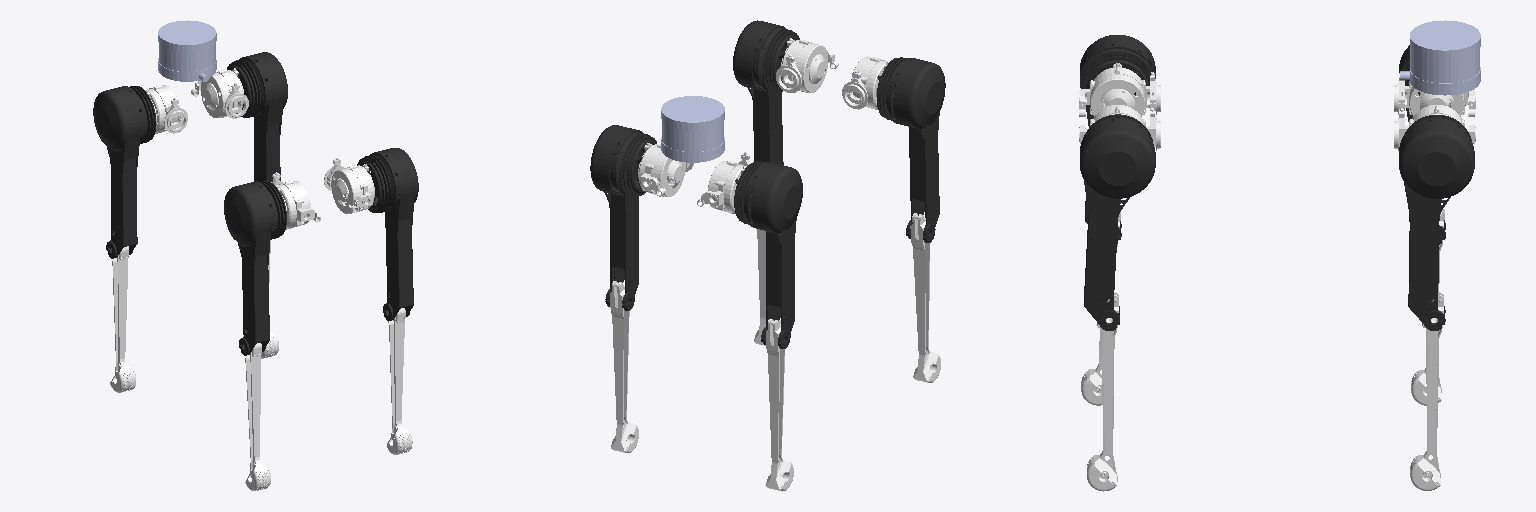
URDF robot description (mini):
<?xml version="1.0" encoding="utf-8"?>
<!-- This URDF was automatically created by SolidWorks to URDF Exporter! Originally created by [author] ([email redacted]) 
     Commit Version: 1.5.1-0-g916b5db  Build Version: 1.5.7152.31018
     For more information, please see http://wiki.ros.org/sw_urdf_exporter -->
<robot
  name="mini">
  <link
    name="body">
    <inertial>
      <origin
        xyz="0.000245440255894021 -0.26690950846453 -0.119018694634333"
        rpy="0 0 0" />
      <mass
        value="1.84058687159975" />
      <inertia
        ixx="0.0745416996110355"
        ixy="0.000148661882664406"
        ixz="1.88535341290636E-05"
        iyy="0.0142146049224298"
        iyz="0.000140555794754809"
        izz="0.0755493806951746" />
    </inertial>
    <visual>
      <origin
        xyz="0 0 0"
        rpy="0 0 0" />
      <geometry>
        <mesh
          filename="package://mini/meshes/body.STL" />
      </geometry>
      <material
        name="">
        <color
          rgba="1 1 1 1" />
      </material>
    </visual>
    <collision>
      <origin
        xyz="0 0 0"
        rpy="0 0 0" />
      <geometry>
        <mesh
          filename="package://mini/meshes/body.STL" />
      </geometry>
    </collision>
  </link>
  <link
    name="LF">
    <inertial>
      <origin
        xyz="0.0501797505978839 -0.00117714841636699 -0.00101274607086331"
        rpy="0 0 0" />
      <mass
        value="0.0848927357980997" />
      <inertia
        ixx="5.74845888913753E-05"
        ixy="-3.26354780273533E-06"
        ixz="7.14333133904963E-07"
        iyy="0.0001013648956261"
        iyz="8.40365965620821E-07"
        izz="0.000118406896361467" />
    </inertial>
    <visual>
      <origin
        xyz="0 0 0"
        rpy="0 0 0" />
      <geometry>
        <mesh
          filename="package://mini/meshes/LF.STL" />
      </geometry>
      <material
        name="">
        <color
          rgba="1 1 1 1" />
      </material>
    </visual>
    <collision>
      <origin
        xyz="0 0 0"
        rpy="0 0 0" />
      <geometry>
        <mesh
          filename="package://mini/meshes/LF.STL" />
      </geometry>
    </collision>
  </link>
  <joint
    name="LF_Joint"
    type="revolute">
    <origin
      xyz="-0.0619999997813264 -0.0670000002339657 -0.129699999983671"
      rpy="-1.5707963267949 0 1.57079633005868" />
    <parent
      link="body" />
    <child
      link="LF" />
    <axis
      xyz="1 0 0" />
    <limit
      lower="0"
      upper="0"
      effort="0"
      velocity="0" />
  </joint>
  <link
    name="LF_1">
    <inertial>
      <origin
        xyz="-0.00454268776611239 0.0356868315480052 0.0462116917048522"
        rpy="0 0 0" />
      <mass
        value="0.254274593126043" />
      <inertia
        ixx="0.00171033616198927"
        ixy="0.000114548554163662"
        ixz="1.57834810918413E-06"
        iyy="0.000356452736244077"
        iyz="-1.21809361527448E-05"
        izz="0.00177134098650171" />
    </inertial>
    <visual>
      <origin
        xyz="0 0 0"
        rpy="0 0 0" />
      <geometry>
        <mesh
          filename="package://mini/meshes/LF_1.STL" />
      </geometry>
      <material
        name="">
        <color
          rgba="0.250980392156863 0.250980392156863 0.250980392156863 1" />
      </material>
    </visual>
    <collision>
      <origin
        xyz="0 0 0"
        rpy="0 0 0" />
      <geometry>
        <mesh
          filename="package://mini/meshes/LF_1.STL" />
      </geometry>
    </collision>
  </link>
  <joint
    name="LF_Joint_1"
    type="revolute">
    <origin
      xyz="0.055 0 0.0369999999999973"
      rpy="0 0 0" />
    <parent
      link="LF" />
    <child
      link="LF_1" />
    <axis
      xyz="0 0 1" />
    <limit
      lower="0"
      upper="0"
      effort="0"
      velocity="0" />
  </joint>
  <link
    name="LF_2">
    <inertial>
      <origin
        xyz="-0.00791119514784239 0.155371104176032 -0.0185125947760823"
        rpy="0 0 0" />
      <mass
        value="0.0821021793793291" />
      <inertia
        ixx="0.00101039886412487"
        ixy="4.79164938059237E-05"
        ixz="-2.26551882075619E-09"
        iyy="1.4593471616848E-05"
        iyz="1.11680724458971E-07"
        izz="0.00101698105673901" />
    </inertial>
    <visual>
      <origin
        xyz="0 0 0"
        rpy="0 0 0" />
      <geometry>
        <mesh
          filename="package://mini/meshes/LF_2.STL" />
      </geometry>
      <material
        name="">
        <color
          rgba="1 1 1 1" />
      </material>
    </visual>
    <collision>
      <origin
        xyz="0 0 0"
        rpy="0 0 0" />
      <geometry>
        <mesh
          filename="package://mini/meshes/LF_2.STL" />
      </geometry>
    </collision>
  </link>
  <joint
    name="LF_Joint_2"
    type="revolute">
    <origin
      xyz="-0.00284717615831659 0.249983786652555 0.0659999999907074"
      rpy="0 0 0" />
    <parent
      link="LF_1" />
    <child
      link="LF_2" />
    <axis
      xyz="0 0 1" />
    <limit
      lower="0"
      upper="0"
      effort="0"
      velocity="0" />
  </joint>
  <link
    name="LB">
    <inertial>
      <origin
        xyz="-0.0501797531184657 -0.00117714574142191 -0.00101275926123656"
        rpy="0 0 0" />
      <mass
        value="0.0848928229213895" />
      <inertia
        ixx="5.74846138998654E-05"
        ixy="3.26354164295674E-06"
        ixz="-7.14334685545111E-07"
        iyy="0.000101364933311542"
        iyz="8.40365622492163E-07"
        izz="0.000118406933977841" />
    </inertial>
    <visual>
      <origin
        xyz="0 0 0"
        rpy="0 0 0" />
      <geometry>
        <mesh
          filename="package://mini/meshes/LB.STL" />
      </geometry>
      <material
        name="">
        <color
          rgba="1 1 1 1" />
      </material>
    </visual>
    <collision>
      <origin
        xyz="0 0 0"
        rpy="0 0 0" />
      <geometry>
        <mesh
          filename="package://mini/meshes/LB.STL" />
      </geometry>
    </collision>
  </link>
  <joint
    name="LB_Joint"
    type="revolute">
    <origin
      xyz="-0.0619999986324702 -0.419000000233966 -0.129699999897879"
      rpy="-1.5707963267949 0 1.57079633005868" />
    <parent
      link="body" />
    <child
      link="LB" />
    <axis
      xyz="1 0 0" />
    <limit
      lower="0"
      upper="0"
      effort="0"
      velocity="0" />
  </joint>
  <link
    name="LB_1">
    <inertial>
      <origin
        xyz="-0.0056088186033082 0.0355348305242741 0.0462116950281868"
        rpy="0 0 0" />
      <mass
        value="0.254274504205363" />
      <inertia
        ixx="0.00170226762302061"
        ixy="0.00015484937981588"
        ixz="1.94225212328637E-06"
        iyy="0.000364519918862472"
        iyz="-1.21283043073719E-05"
        izz="0.00177133963348735" />
    </inertial>
    <visual>
      <origin
        xyz="0 0 0"
        rpy="0 0 0" />
      <geometry>
        <mesh
          filename="package://mini/meshes/LB_1.STL" />
      </geometry>
      <material
        name="">
        <color
          rgba="0.250980392156863 0.250980392156863 0.250980392156863 1" />
      </material>
    </visual>
    <collision>
      <origin
        xyz="0 0 0"
        rpy="0 0 0" />
      <geometry>
        <mesh
          filename="package://mini/meshes/LB_1.STL" />
      </geometry>
    </collision>
  </link>
  <joint
    name="LB_Joint_1"
    type="revolute">
    <origin
      xyz="-0.0550000000000016 0 0.037"
      rpy="0 0 0" />
    <parent
      link="LB" />
    <child
      link="LB_1" />
    <axis
      xyz="0 0 1" />
    <limit
      lower="0"
      upper="0"
      effort="0"
      velocity="0" />
  </joint>
  <link
    name="LB_2">
    <inertial>
      <origin
        xyz="-0.01291813699497 0.155035129786747 -0.0185125939520661"
        rpy="0 0 0" />
      <mass
        value="0.0821021858706785" />
      <inertia
        ixx="0.00100627386659396"
        ixy="7.99170020567905E-05"
        ixz="-5.864592490093E-09"
        iyy="1.87185267024882E-05"
        iyz="1.1154642349817E-07"
        izz="0.00101698111179844" />
    </inertial>
    <visual>
      <origin
        xyz="0 0 0"
        rpy="0 0 0" />
      <geometry>
        <mesh
          filename="package://mini/meshes/LB_2.STL" />
      </geometry>
      <material
        name="">
        <color
          rgba="1 1 1 1" />
      </material>
    </visual>
    <collision>
      <origin
        xyz="0 0 0"
        rpy="0 0 0" />
      <geometry>
        <mesh
          filename="package://mini/meshes/LB_2.STL" />
      </geometry>
    </collision>
  </link>
  <joint
    name="LB_Joint_2"
    type="revolute">
    <origin
      xyz="-0.0103284822954822 0.24978655379728 0.06599999996629"
      rpy="0 0 0" />
    <parent
      link="LB_1" />
    <child
      link="LB_2" />
    <axis
      xyz="0 0 1" />
    <limit
      lower="0"
      upper="0"
      effort="0"
      velocity="0" />
  </joint>
  <link
    name="RF">
    <inertial>
      <origin
        xyz="0.0501797538865763 -0.00118185349852255 0.00100726133774833"
        rpy="0 0 0" />
      <mass
        value="0.0848928210166398" />
      <inertia
        ixx="5.74846137695991E-05"
        ixy="-3.26017620735351E-06"
        ixz="-7.2953919050443E-07"
        iyy="0.000101373135436778"
        iyz="-9.19764539896138E-07"
        izz="0.000118398727095263" />
    </inertial>
    <visual>
      <origin
        xyz="0 0 0"
        rpy="0 0 0" />
      <geometry>
        <mesh
          filename="package://mini/meshes/RF.STL" />
      </geometry>
      <material
        name="">
        <color
          rgba="1 1 1 1" />
      </material>
    </visual>
    <collision>
      <origin
        xyz="0 0 0"
        rpy="0 0 0" />
      <geometry>
        <mesh
          filename="package://mini/meshes/RF.STL" />
      </geometry>
    </collision>
  </link>
  <joint
    name="RF_Joint"
    type="revolute">
    <origin
      xyz="0.062 -0.067 -0.1297"
      rpy="-1.5708 0 1.5708" />
    <parent
      link="body" />
    <child
      link="RF" />
    <axis
      xyz="1 0 0" />
    <limit
      lower="0"
      upper="0"
      effort="0"
      velocity="0" />
  </joint>
  <link
    name="RF_1">
    <inertial>
      <origin
        xyz="-0.00458432071406256 0.0361665598779678 -0.0465249028793709"
        rpy="0 0 0" />
      <mass
        value="0.254869917041049" />
      <inertia
        ixx="0.00170414629635864"
        ixy="0.000118123686872183"
        ixz="-2.09865571019765E-07"
        iyy="0.000353649344011661"
        iyz="3.12027441252963E-06"
        izz="0.00176809632277789" />
    </inertial>
    <visual>
      <origin
        xyz="0 0 0"
        rpy="0 0 0" />
      <geometry>
        <mesh
          filename="package://mini/meshes/RF_1.STL" />
      </geometry>
      <material
        name="">
        <color
          rgba="0.250980392156863 0.250980392156863 0.250980392156863 1" />
      </material>
    </visual>
    <collision>
      <origin
        xyz="0 0 0"
        rpy="0 0 0" />
      <geometry>
        <mesh
          filename="package://mini/meshes/RF_1.STL" />
      </geometry>
    </collision>
  </link>
  <joint
    name="RF_Joint_1"
    type="revolute">
    <origin
      xyz="0.055 0.00017246 -0.037"
      rpy="0 0 0" />
    <parent
      link="RF" />
    <child
      link="RF_1" />
    <axis
      xyz="0 0 1" />
    <limit
      lower="0"
      upper="0"
      effort="0"
      velocity="0" />
  </joint>
  <link
    name="RF_2">
    <inertial>
      <origin
        xyz="-0.00837193817002385 0.155346959509884 0.0184874037320066"
        rpy="0 0 0" />
      <mass
        value="0.0821021795597598" />
      <inertia
        ixx="0.0010101059082602"
        ixy="5.08688459114004E-05"
        ixz="-2.59605536121194E-09"
        iyy="1.48864269461338E-05"
        iyz="1.11664906639562E-07"
        izz="0.00101698106065422" />
    </inertial>
    <visual>
      <origin
        xyz="0 0 0"
        rpy="0 0 0" />
      <geometry>
        <mesh
          filename="package://mini/meshes/RF_2.STL" />
      </geometry>
      <material
        name="">
        <color
          rgba="1 1 1 1" />
      </material>
    </visual>
    <collision>
      <origin
        xyz="0 0 0"
        rpy="0 0 0" />
      <geometry>
        <mesh
          filename="package://mini/meshes/RF_2.STL" />
      </geometry>
    </collision>
  </link>
  <joint
    name="RF_Joint_2"
    type="revolute">
    <origin
      xyz="-0.0035844 0.25028 -0.064834"
      rpy="0.0046612 0 0" />
    <parent
      link="RF_1" />
    <child
      link="RF_2" />
    <axis
      xyz="0 0 1" />
    <limit
      lower="0"
      upper="0"
      effort="0"
      velocity="0" />
  </joint>
  <link
    name="RB">
    <inertial>
      <origin
        xyz="-0.050179750597884 -0.00117714841636701 0.00101274607086329"
        rpy="0 0 0" />
      <mass
        value="0.0848927357981" />
      <inertia
        ixx="5.74845888913754E-05"
        ixy="3.26354780273531E-06"
        ixz="7.1433313390485E-07"
        iyy="0.0001013648956261"
        iyz="-8.40365965620812E-07"
        izz="0.000118406896361468" />
    </inertial>
    <visual>
      <origin
        xyz="0 0 0"
        rpy="0 0 0" />
      <geometry>
        <mesh
          filename="package://mini/meshes/RB.STL" />
      </geometry>
      <material
        name="">
        <color
          rgba="1 1 1 1" />
      </material>
    </visual>
    <collision>
      <origin
        xyz="0 0 0"
        rpy="0 0 0" />
      <geometry>
        <mesh
          filename="package://mini/meshes/RB.STL" />
      </geometry>
    </collision>
  </link>
  <joint
    name="RB_Joint"
    type="revolute">
    <origin
      xyz="0.062 -0.419 -0.1297"
      rpy="-1.5708 0 1.5708" />
    <parent
      link="body" />
    <child
      link="RB" />
    <axis
      xyz="1 0 0" />
    <limit
      lower="0"
      upper="0"
      effort="0"
      velocity="0" />
  </joint>
  <link
    name="RB_1">
    <inertial>
      <origin
        xyz="-0.00580444812856595 0.0357725246263385 -0.0491929707801751"
        rpy="0 0 0" />
      <mass
        value="0.254869812968442" />
      <inertia
        ixx="0.00169455137955729"
        ixy="0.000163755581509164"
        ixz="-1.09037765719604E-06"
        iyy="0.000363302525061901"
        iyz="9.68146134861953E-06"
        izz="0.00176803496348713" />
    </inertial>
    <visual>
      <origin
        xyz="0 0 0"
        rpy="0 0 0" />
      <geometry>
        <mesh
          filename="package://mini/meshes/RB_1.STL" />
      </geometry>
      <material
        name="">
        <color
          rgba="0.250980392156863 0.250980392156863 0.250980392156863 1" />
      </material>
    </visual>
    <collision>
      <origin
        xyz="0 0 0"
        rpy="0 0 0" />
      <geometry>
        <mesh
          filename="package://mini/meshes/RB_1.STL" />
      </geometry>
    </collision>
  </link>
  <joint
    name="RB_Joint_1"
    type="revolute">
    <origin
      xyz="-0.055 0 -0.0345"
      rpy="0 0 0" />
    <parent
      link="RB" />
    <child
      link="RB_1" />
    <axis
      xyz="0 0 1" />
    <limit
      lower="0"
      upper="0"
      effort="0"
      velocity="0" />
  </joint>
  <link
    name="RB_2">
    <inertial>
      <origin
        xyz="-0.00702662858027892 0.155413621022406 0.0184874049559236"
        rpy="0 0 0" />
      <mass
        value="0.0821021804602638" />
      <inertia
        ixx="0.00101091211199855"
        ixy="4.22449310017215E-05"
        ixz="-1.63024498375539E-09"
        iyy="1.40802264704191E-05"
        iyz="1.11692993138164E-07"
        izz="0.00101698105964998" />
    </inertial>
    <visual>
      <origin
        xyz="0 0 0"
        rpy="0 0 0" />
      <geometry>
        <mesh
          filename="package://mini/meshes/RB_2.STL" />
      </geometry>
      <material
        name="">
        <color
          rgba="1 1 1 1" />
      </material>
    </visual>
    <collision>
      <origin
        xyz="0 0 0"
        rpy="0 0 0" />
      <geometry>
        <mesh
          filename="package://mini/meshes/RB_2.STL" />
      </geometry>
    </collision>
  </link>
  <joint
    name="RB_Joint_2"
    type="revolute">
    <origin
      xyz="-0.0120851358149442 0.249707728128166 -0.0685000000394434"
      rpy="0 0 0" />
    <parent
      link="RB_1" />
    <child
      link="RB_2" />
    <axis
      xyz="0 0 1" />
    <limit
      lower="0"
      upper="0"
      effort="0"
      velocity="0" />
  </joint>
  <link
    name="Lidar">
    <inertial>
      <origin
        xyz="3.31640316434539E-06 0.0357452861533647 0.000168293826702581"
        rpy="0 0 0" />
      <mass
        value="0.590032077795476" />
      <inertia
        ixx="0.000647464608320236"
        ixy="6.45580533550386E-08"
        ixz="2.89532307924072E-10"
        iyy="0.000774943193326064"
        iyz="2.80453300263633E-06"
        izz="0.000641326417350481" />
    </inertial>
    <visual>
      <origin
        xyz="0 0 0"
        rpy="0 0 0" />
      <geometry>
        <mesh
          filename="package://mini/meshes/Lidar.STL" />
      </geometry>
      <material
        name="">
        <color
          rgba="0.792156862745098 0.819607843137255 0.933333333333333 1" />
      </material>
    </visual>
    <collision>
      <origin
        xyz="0 0 0"
        rpy="0 0 0" />
      <geometry>
        <mesh
          filename="package://mini/meshes/Lidar.STL" />
      </geometry>
    </collision>
  </link>
  <joint
    name="Lidar_Joint"
    type="fixed">
    <origin
      xyz="0 0 -0.0717"
      rpy="1.5708 0 0" />
    <parent
      link="body" />
    <child
      link="Lidar" />
    <axis
      xyz="0 0 0" />
  </joint>
  <!-- <link
    name="RealSence_F">
    <inertial>
      <origin
        xyz="-0.0220687308289624 0.0467473259367573 0.378467842281016"
        rpy="0 0 0" />
      <mass
        value="0.0483821864790052" />
      <inertia
        ixx="4.59957024125321E-06"
        ixy="1.59319006516822E-07"
        ixz="4.42312645141517E-07"
        iyy="2.9922649412762E-05"
        iyz="-4.11068005512863E-08"
        izz="2.98432126115266E-05" />
    </inertial>
    <visual>
      <origin
        xyz="0 0 0"
        rpy="0 0 0" />
      <geometry>
        <mesh
          filename="package://mini/meshes/RealSence_F.STL" />
      </geometry>
      <material
        name="">
        <color
          rgba="0.792156862745098 0.819607843137255 0.933333333333333 1" />
      </material>
    </visual>
    <collision>
      <origin
        xyz="0 0 0"
        rpy="0 0 0" />
      <geometry>
        <mesh
          filename="package://mini/meshes/RealSence_F.STL" />
      </geometry>
    </collision>
  </link>
  <joint
    name="RealSence_F_Joint"
    type="fixed">
    <origin
      xyz="0.020939 0.45806 -0.14839"
      rpy="1.5708 0 0" />
    <parent
      link="body" />
    <child
      link="RealSence_F" />
    <axis
      xyz="0 0 0" />
  </joint>
  <link
    name="RealSence_B">
    <inertial>
      <origin
        xyz="-0.0220687307886732 0.0467473259498581 0.378467842288961"
        rpy="0 0 0" />
      <mass
        value="0.0483821865502262" />
      <inertia
        ixx="4.5995702475578E-06"
        ixy="1.59318993530729E-07"
        ixz="4.42312632076694E-07"
        iyy="2.99226494684879E-05"
        iyz="-4.11068099558978E-08"
        izz="2.98432126753058E-05" />
    </inertial>
    <visual>
      <origin
        xyz="0 0 0"
        rpy="0 0 0" />
      <geometry>
        <mesh
          filename="package://mini/meshes/RealSence_B.STL" />
      </geometry>
      <material
        name="">
        <color
          rgba="0.792156862745098 0.819607843137255 0.933333333333333 1" />
      </material>
    </visual>
    <collision>
      <origin
        xyz="0 0 0"
        rpy="0 0 0" />
      <geometry>
        <mesh
          filename="package://mini/meshes/RealSence_B.STL" />
      </geometry>
    </collision>
  </link>
  <joint
    name="RealSence_B_Joint"
    type="fixed">
    <origin
      xyz="0.0209390044790954 -0.904272317630113 -0.30007590343112"
      rpy="-0.872664626240902 0 0" />
    <parent
      link="body" />
    <child
      link="RealSence_B" />
    <axis
      xyz="0 0 0" />
  </joint> -->
</robot>

--- Render facts (derived) ---
Views: 3 orthographic renders of the robot side by side, from view 1: azimuth 30°, elevation 25°; view 2: azimuth 150°, elevation 25°; view 3: azimuth 270°, elevation 25°.
Model mini with 14 links and 13 joints (12 revolute, 1 fixed), rooted at body, posed every joint at zero.
Visible links, largest first — view 1: LB_1, LF_1, RB_1, RF_1, Lidar, LB_2, RB_2, LF_2, RB, RF, LF, LB; view 2: LF_1, LB_1, RF_1, RB_1, Lidar, RF_2, LF_2, LB_2, RB, RF, LB, LF (+1 smaller); view 3: RB_1, RF_1, Lidar, LB, LB_1, RF_2, RB_2, LF, RF, RB, LB_2, LF_2.
Link boxes in pixels (box(x1,y1,x2,y2)): LB_1: box(224, 181, 286, 355); LF_1: box(93, 86, 155, 258); RB_1: box(357, 148, 418, 320); RF_1: box(227, 52, 287, 181); Lidar: box(158, 20, 216, 81); LB_2: box(243, 336, 270, 490); RB_2: box(387, 308, 412, 454); LF_2: box(110, 240, 135, 392); RB: box(324, 158, 374, 213); RF: box(191, 68, 248, 118); LF: box(145, 85, 187, 133); LB: box(271, 172, 320, 229); LF_1: box(734, 162, 802, 348); LB_1: box(877, 57, 945, 242); RF_1: box(590, 125, 656, 310); RB_1: box(733, 20, 799, 164); Lidar: box(661, 96, 724, 162); RF_2: box(610, 281, 638, 452); LF_2: box(765, 319, 793, 491); LB_2: box(910, 213, 940, 382); RB: box(776, 38, 838, 92); RF: box(638, 143, 693, 196); LB: box(842, 56, 888, 109); LF: box(697, 152, 750, 213); RB_1: box(1080, 114, 1155, 330); RF_1: box(1399, 115, 1474, 330); Lidar: box(1400, 20, 1480, 95); LB: box(1079, 63, 1160, 116); LB_1: box(1080, 35, 1155, 243); RF_2: box(1410, 292, 1443, 490); RB_2: box(1087, 292, 1118, 491); LF: box(1394, 73, 1475, 116); RF: box(1394, 105, 1475, 150); RB: box(1079, 105, 1160, 150); LB_2: box(1081, 212, 1120, 405); LF_2: box(1411, 208, 1444, 405).
Bounding box of the posed robot: 0.3571 × 0.5817 × 0.6549 m (x, y, z).
Meshes: 14 distinct files referenced, 13 mesh visuals loaded (13 binary STL); not drawn: 1 (reference not matched to a file when rendering).